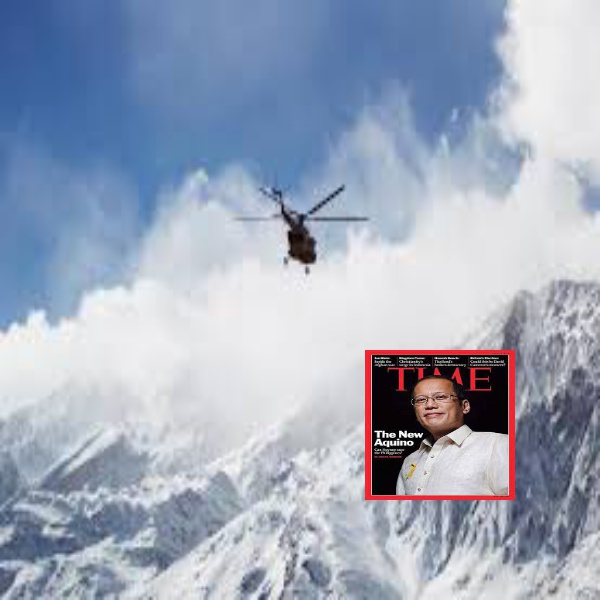time_cover: (359, 342, 526, 505)
